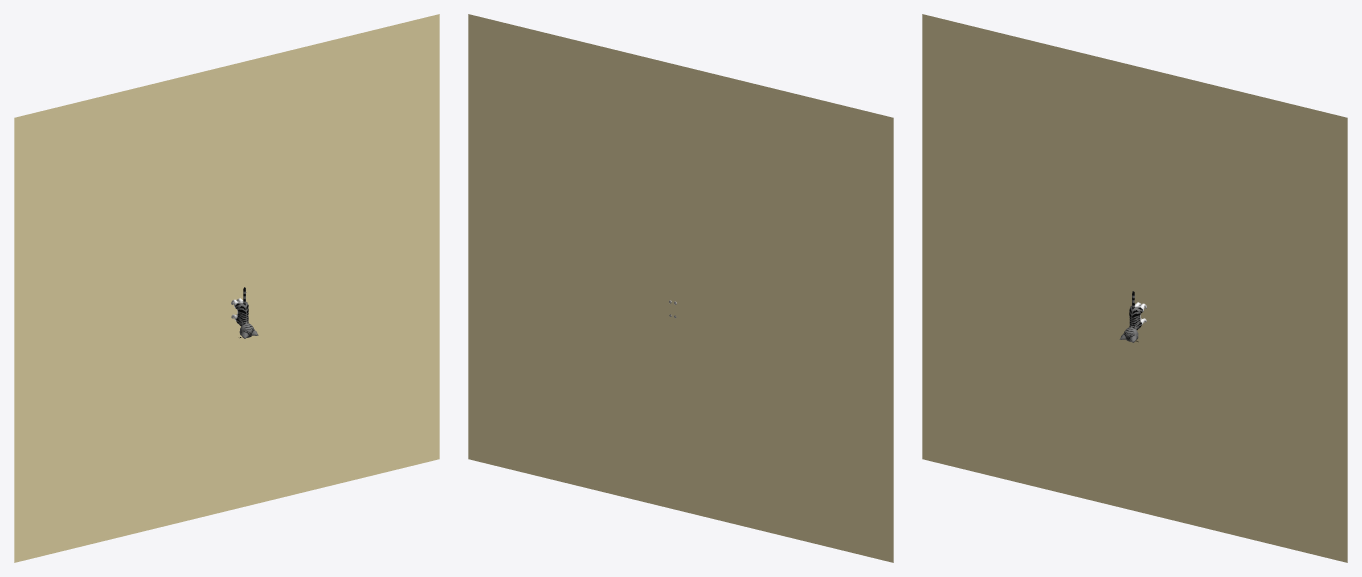
Rendered from Chii.fbx.
3 views of the same model, side by side, from view 1: azimuth 30°, elevation 25°; view 2: azimuth 150°, elevation 25°; view 3: azimuth 330°, elevation 25° (orthographic).
Parts seen in each view (by area): view 1: GROUND, Chii; view 2: GROUND; view 3: GROUND, Chii.
Part boxes in pixels (x1,y1,x2,y2): GROUND: (14, 14, 439, 562); Chii: (231, 287, 258, 338); GROUND: (468, 14, 893, 562); GROUND: (922, 14, 1347, 562); Chii: (1119, 291, 1146, 342).
Size of the model in its own units: 312 by 312 by 21.63.
